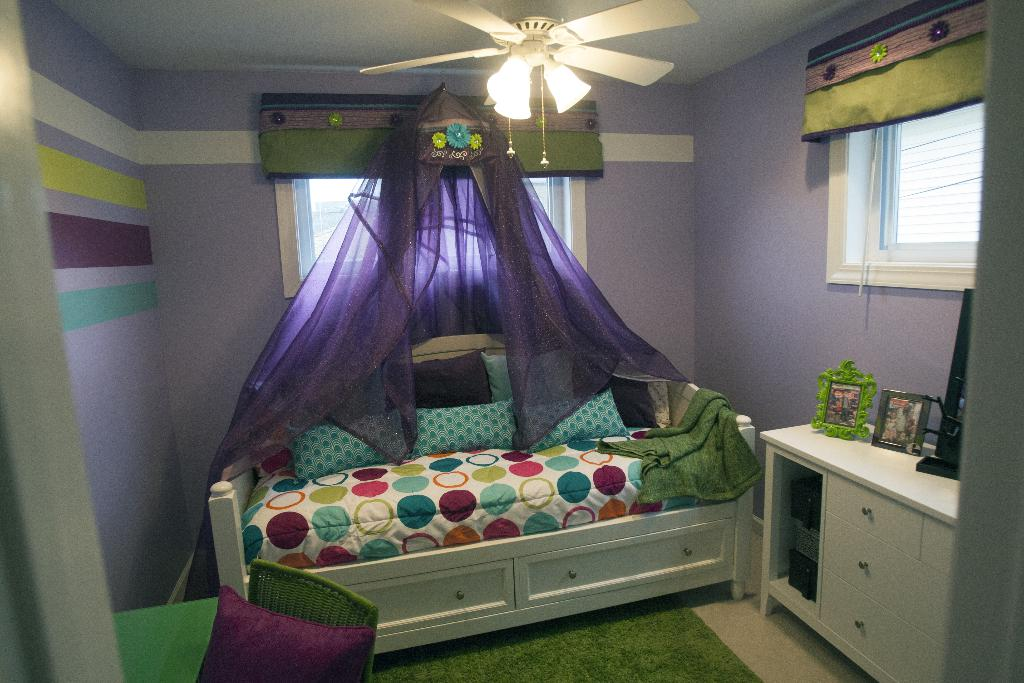cabinet door: (526, 533, 727, 578), (364, 580, 506, 615), (834, 534, 913, 593), (831, 599, 908, 659), (830, 488, 913, 529)
handle: (856, 503, 875, 519), (563, 567, 580, 583), (451, 589, 468, 604), (854, 617, 868, 635), (679, 547, 696, 561), (857, 557, 870, 572)
